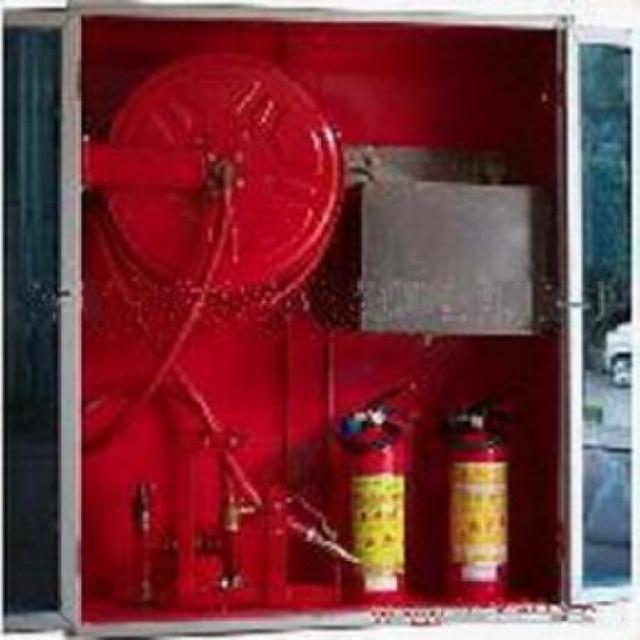firehydrant: (57, 0, 586, 640)
